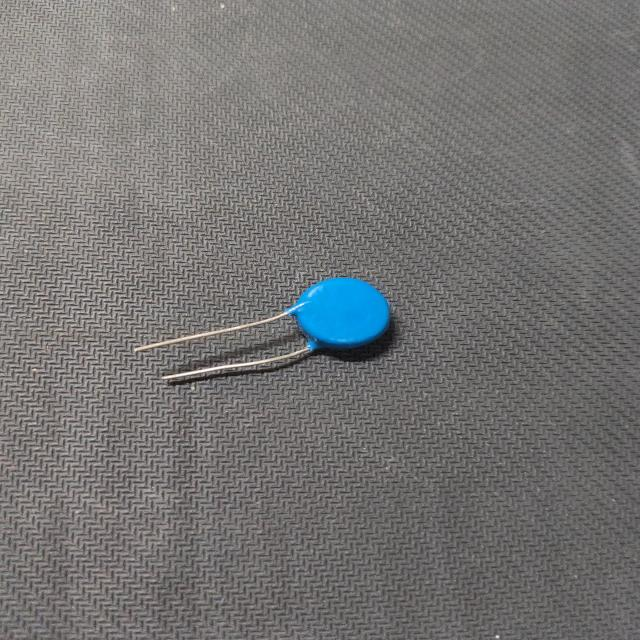capacitor: (118, 266, 404, 390)
